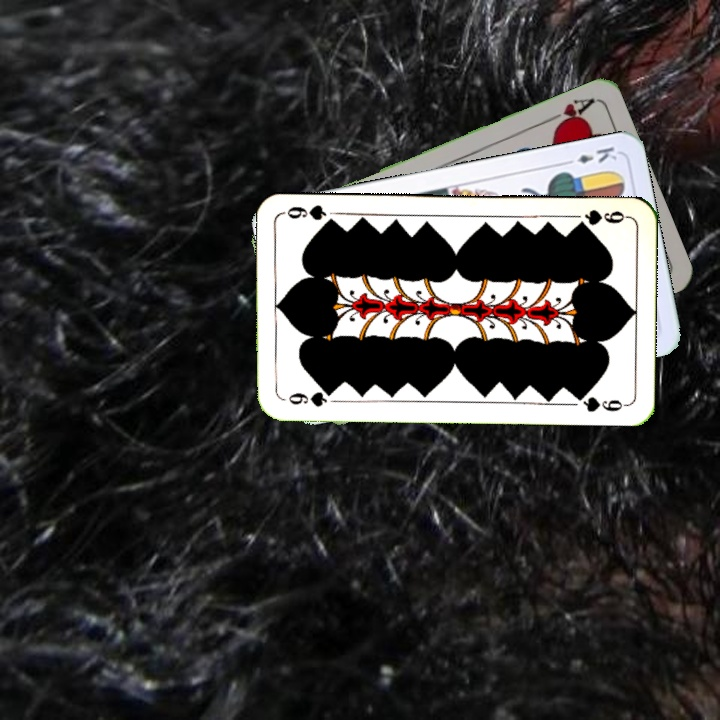EK: (560, 142, 620, 168)
G9: (572, 206, 631, 231), (284, 386, 337, 409)
HA: (540, 94, 597, 133)
